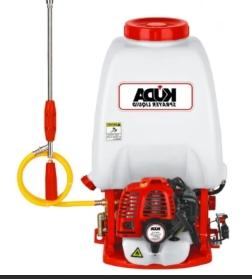PULVERISATEUR: (0, 1, 240, 279)
